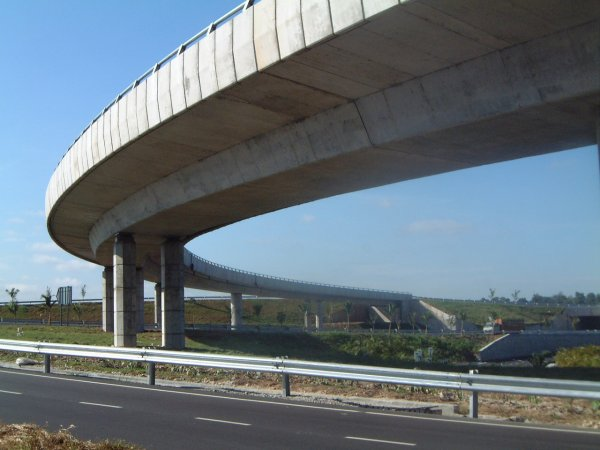bridge: (42, 1, 598, 318)
